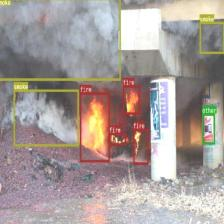fire: (80, 92, 110, 162), (122, 85, 140, 115), (133, 129, 148, 164), (109, 132, 126, 145)
smoke: (0, 0, 120, 80), (13, 89, 78, 146), (199, 21, 224, 52)
